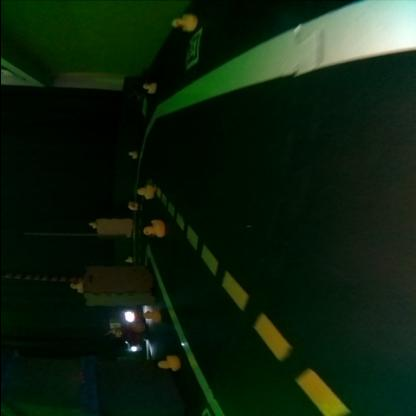Duckie: (171, 15, 196, 32), (142, 220, 164, 238), (156, 358, 180, 372), (135, 186, 153, 200), (144, 312, 158, 323), (140, 84, 154, 95), (68, 283, 82, 294), (126, 152, 136, 160), (126, 203, 136, 211), (88, 223, 96, 228)
Duckiebot: (107, 312, 143, 353)
QR code: (182, 30, 199, 68)
